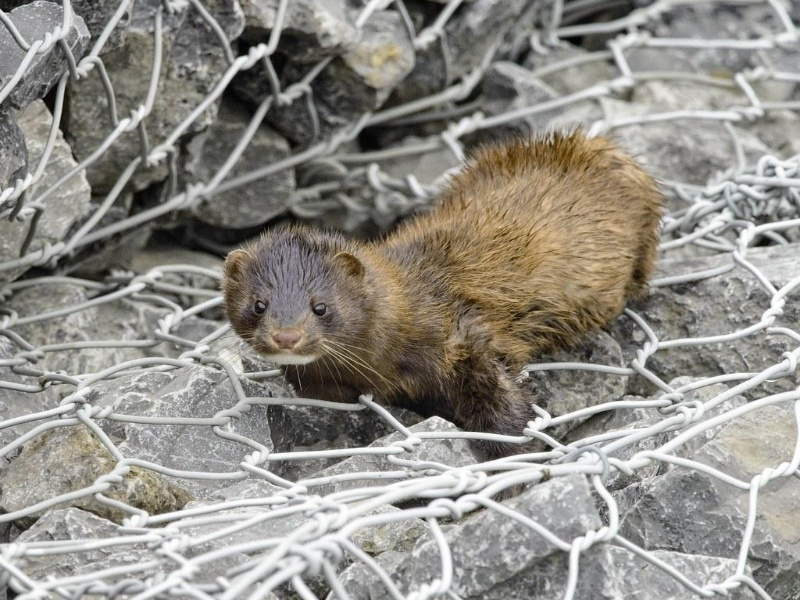minkish: (220, 124, 664, 446)
